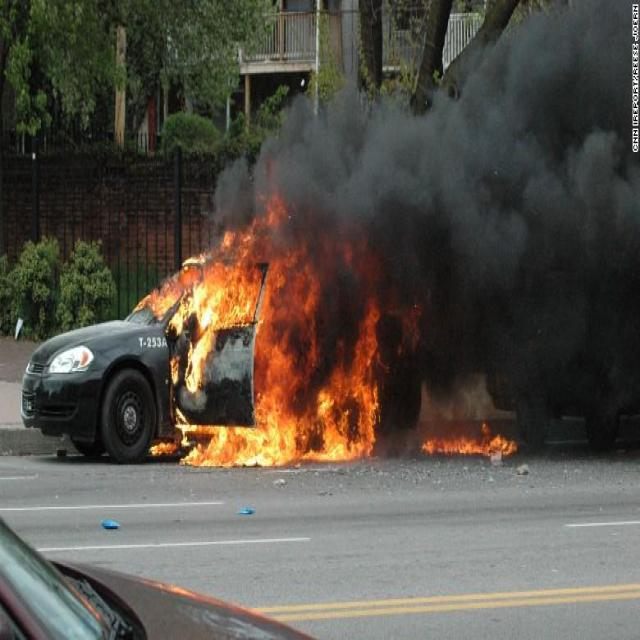Fire: (171, 254, 332, 466), (334, 310, 380, 466), (418, 420, 515, 462)
